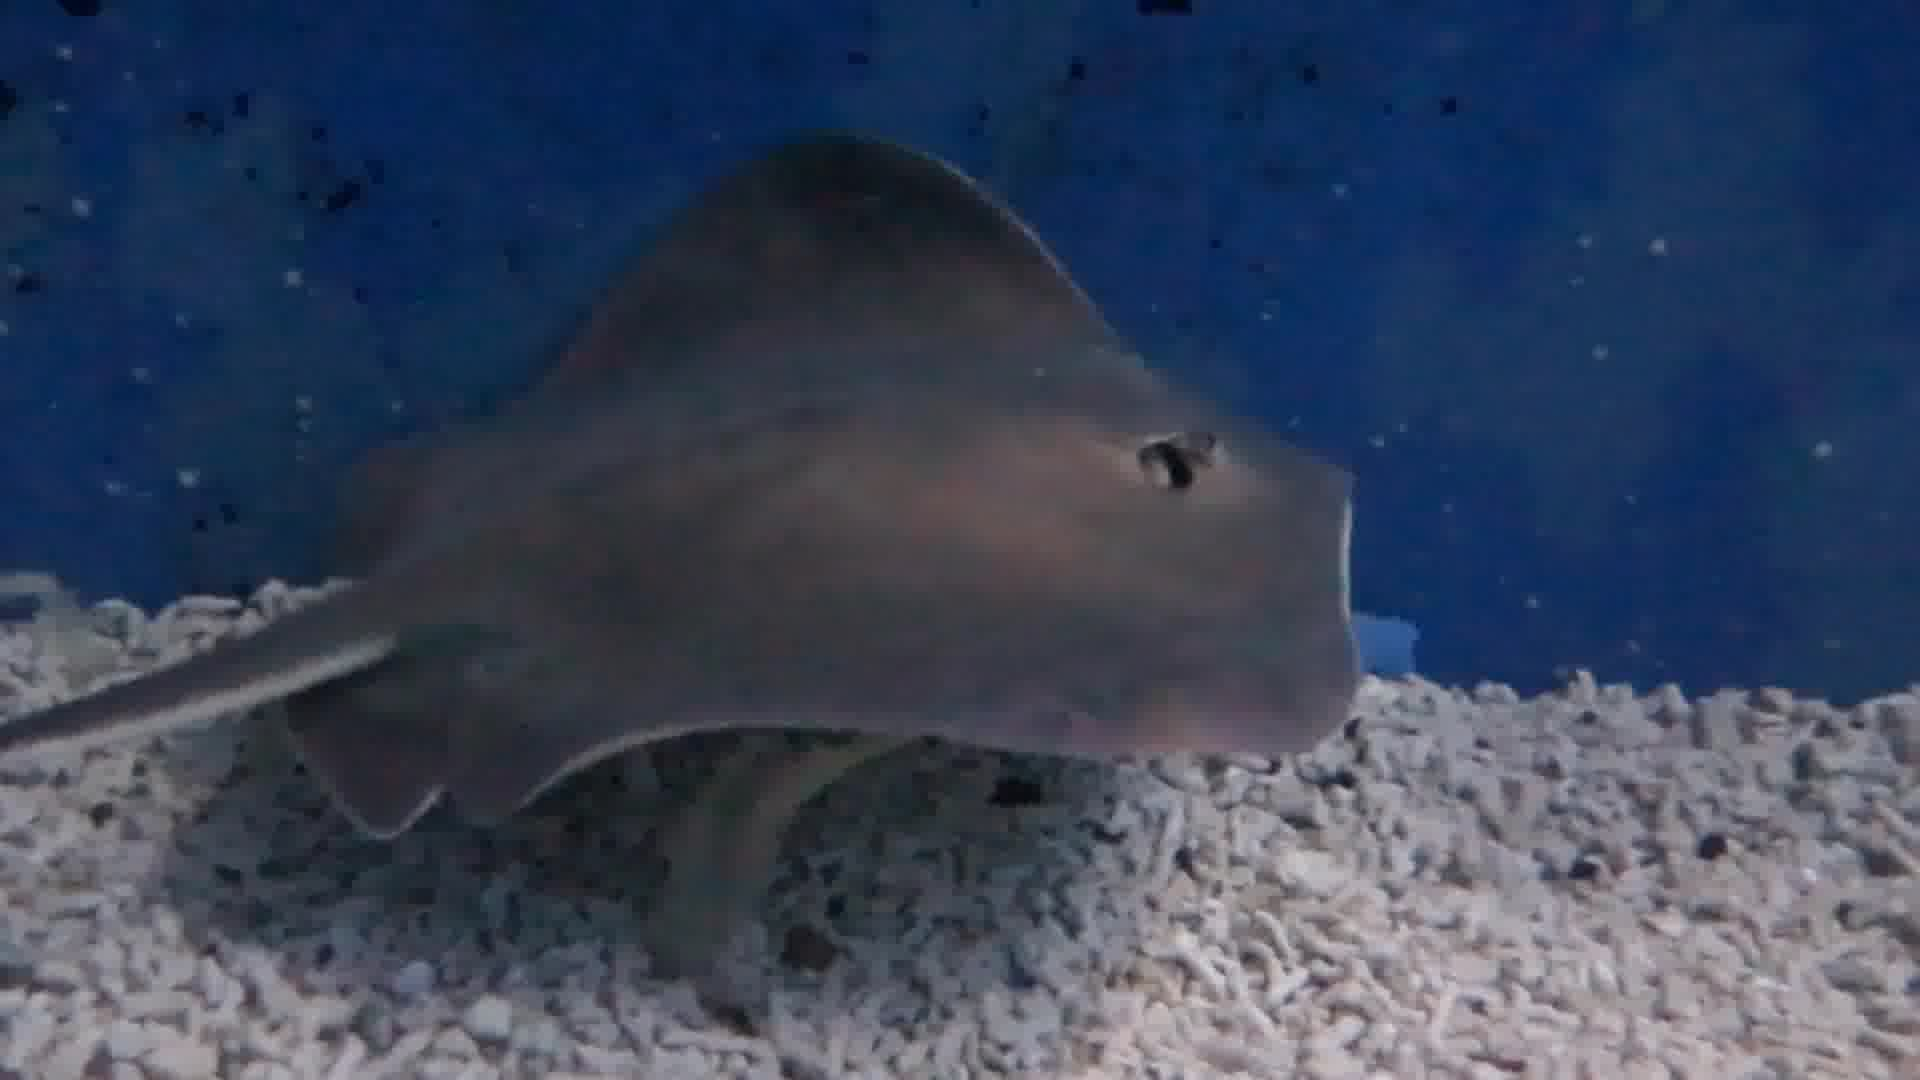Dasyatis bennetti: (233, 99, 1481, 940)
